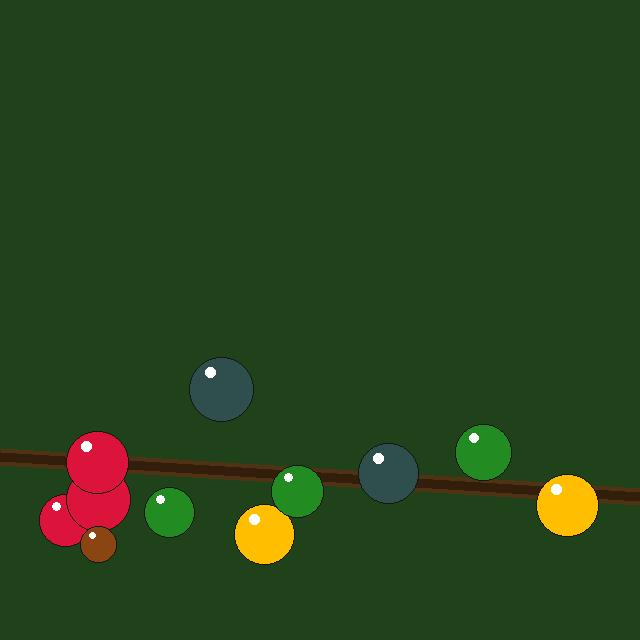Dry_Damaged: (189, 357, 253, 421), (358, 443, 418, 503)
Overripe: (80, 526, 116, 562)
Ripe: (66, 467, 130, 531), (66, 431, 128, 493), (39, 494, 91, 546)
Ripening: (536, 474, 598, 536), (234, 504, 294, 564)
Unripe: (455, 424, 511, 480), (271, 465, 323, 517), (144, 487, 194, 537)
